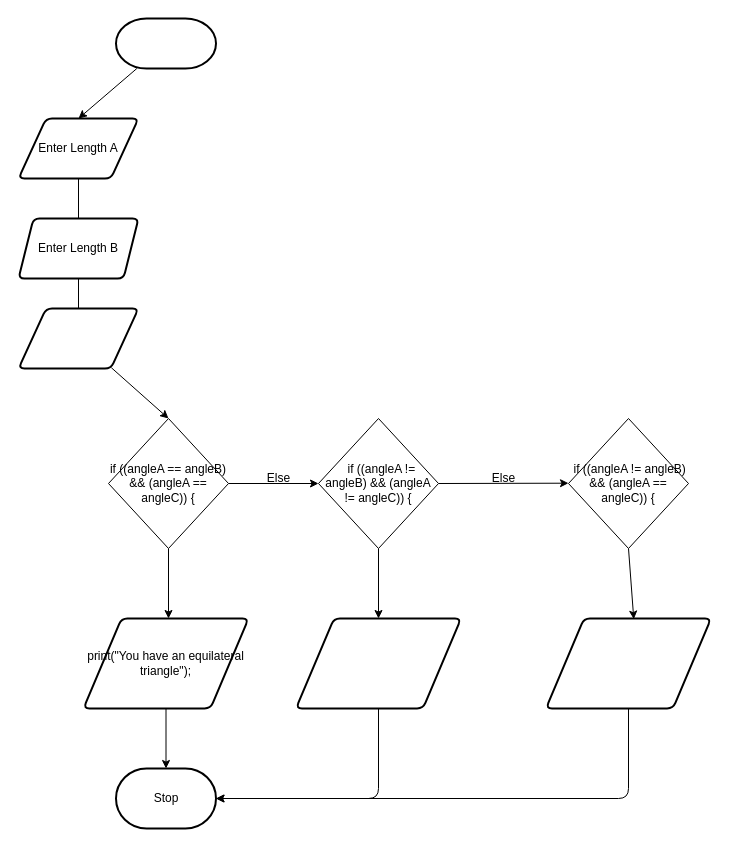
Image size: 729x846. Some labels were removed from this diagram. Each missing label, with the centre of its shape:
Enter Length C: pixel 78 338
print ("You have an Scalene triangle");: pixel 378 663
print("You have an Isosceles triangle");: pixel 628 663
Start: pixel 165 43
